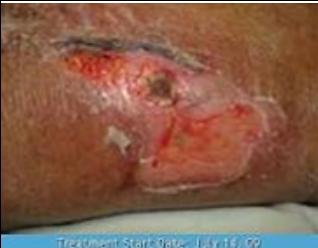Stage3: (67, 27, 286, 202)
